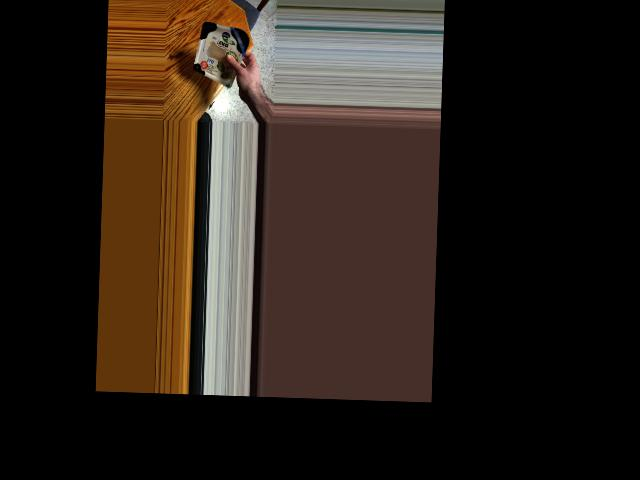cheese: (194, 23, 248, 78)
